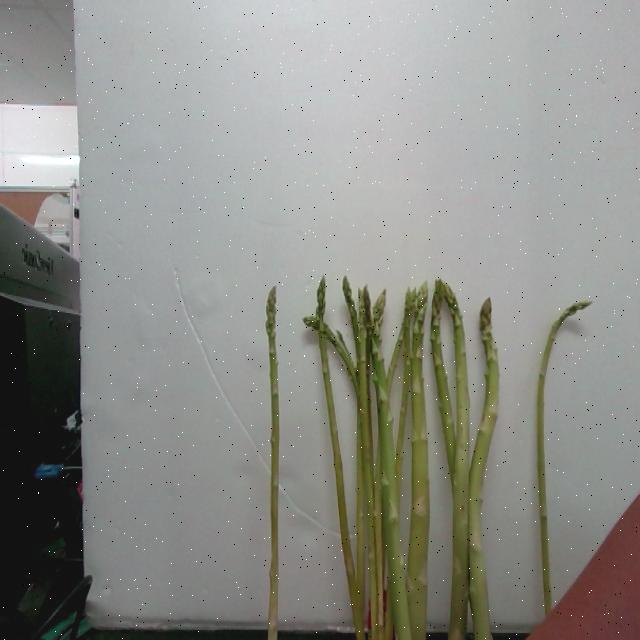aspargus: (537, 302, 592, 616), (407, 278, 433, 640), (267, 290, 281, 640)
